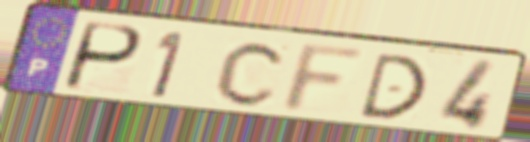1: (150, 30, 187, 102)
4: (435, 58, 498, 135)
C: (211, 39, 291, 109)
D: (355, 51, 430, 121)
F: (275, 41, 372, 116)
P: (58, 19, 147, 94)
